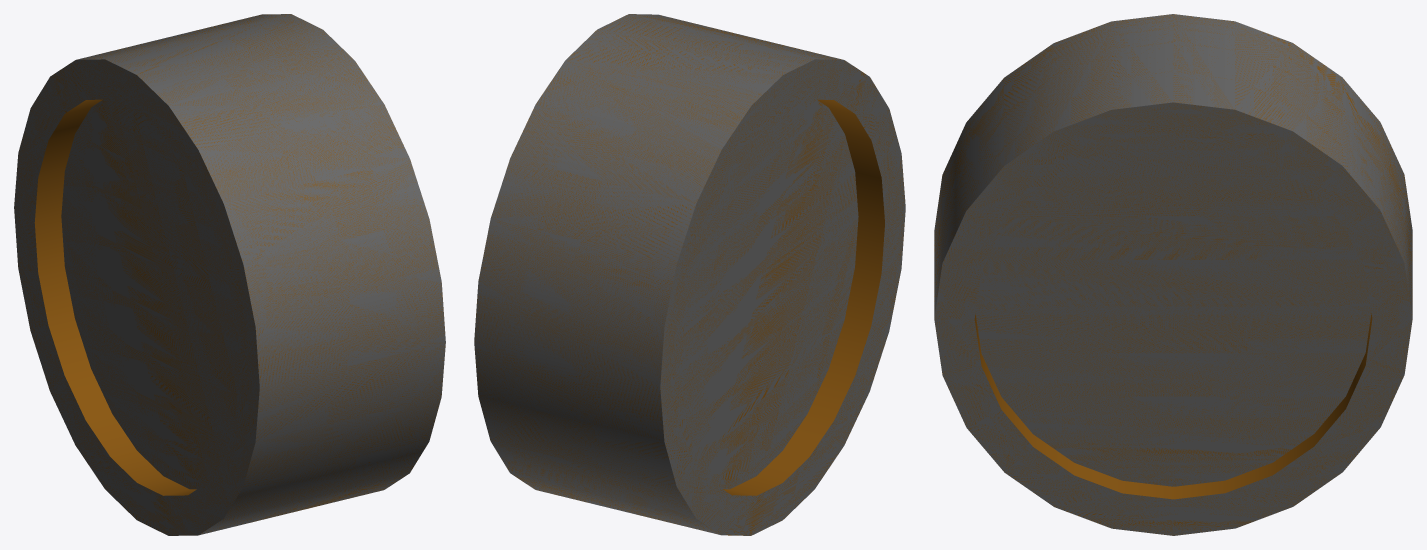
Rendered from original-19.obj.
3 renders of one model, left to right at view 1: azimuth 30°, elevation 25°; view 2: azimuth 150°, elevation 25°; view 3: azimuth 270°, elevation 25°, orthographic. The views are drawn at different scales.
Parts seen in each view (by area): view 1: mesh10/mesh10-geometry#mesh10-geometry; view 2: mesh10/mesh10-geometry#mesh10-geometry; view 3: mesh10/mesh10-geometry#mesh10-geometry.
Part boxes in pixels (<box>): mesh10/mesh10-geometry#mesh10-geometry: <box>14,14,445,535</box>; mesh10/mesh10-geometry#mesh10-geometry: <box>474,14,905,535</box>; mesh10/mesh10-geometry#mesh10-geometry: <box>934,14,1412,535</box>.
Bounding box in the file's own units: 0.0436 × 0.0995 × 0.0995.
